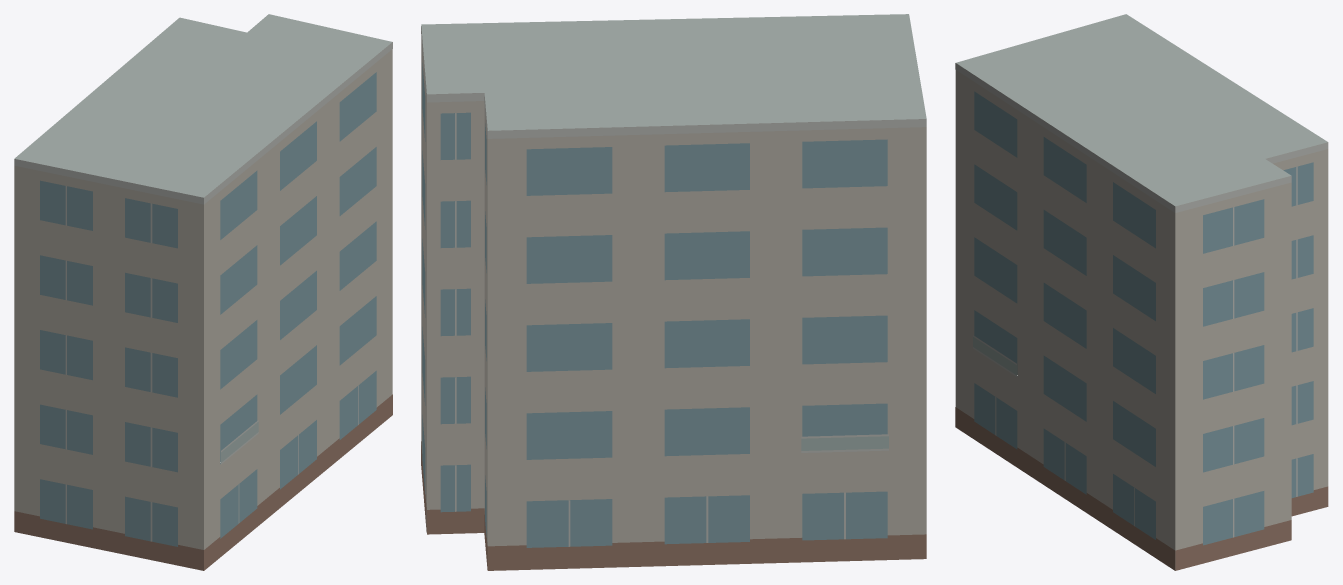
Rendered from survey-upis-32892672.glb.
The picture shows the model from 3 angles, left to right: view 1: azimuth 30°, elevation 25°; view 2: azimuth 150°, elevation 25°; view 3: azimuth 270°, elevation 25°; orthographic projection. The views are drawn at different scales.
Parts seen in each view (by area): view 1: survey-upis-32892672.tmp; view 2: survey-upis-32892672.tmp; view 3: survey-upis-32892672.tmp.
Part boxes in pixels (box(x1,y1,x2,y2)): survey-upis-32892672.tmp: box(14, 14, 392, 570); survey-upis-32892672.tmp: box(421, 14, 926, 570); survey-upis-32892672.tmp: box(955, 14, 1328, 570).
Bounding box in the file's own units: 14.95 × 13.2 × 12.24.
